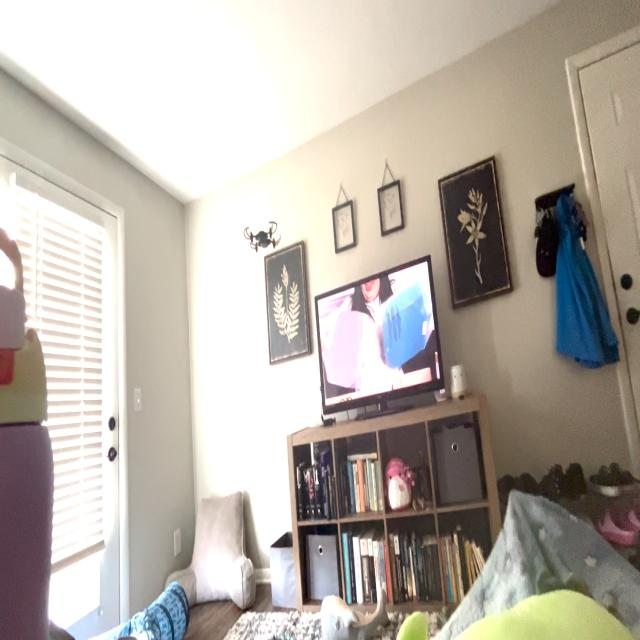drone: (239, 217, 282, 261)
